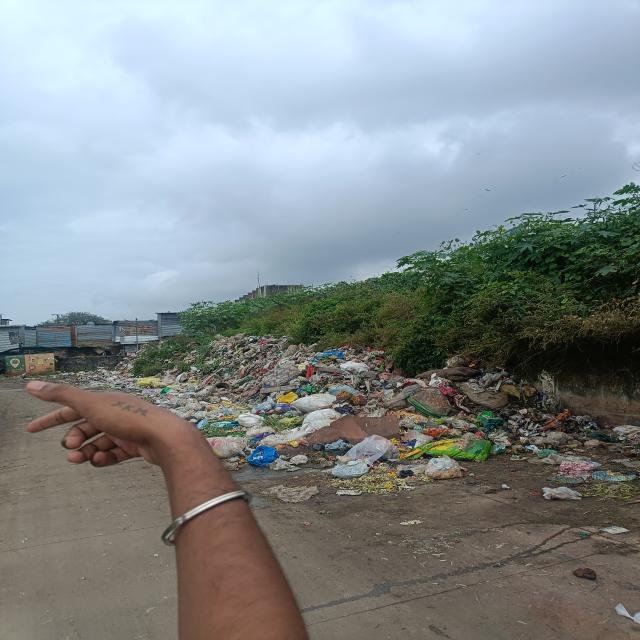garbage: (306, 347, 608, 480), (111, 335, 364, 471)
